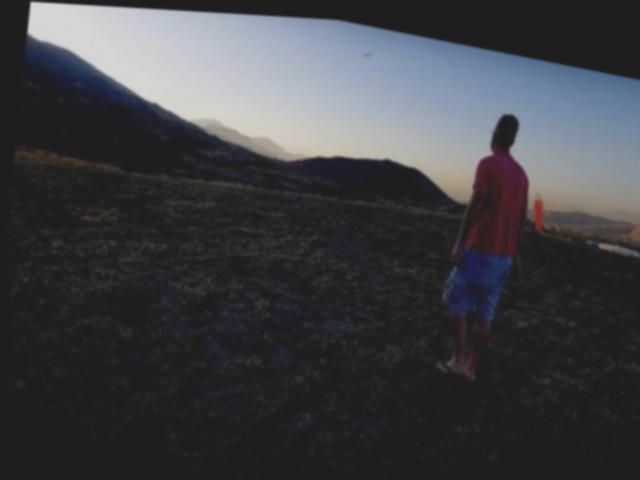iha: (362, 46, 373, 54)
